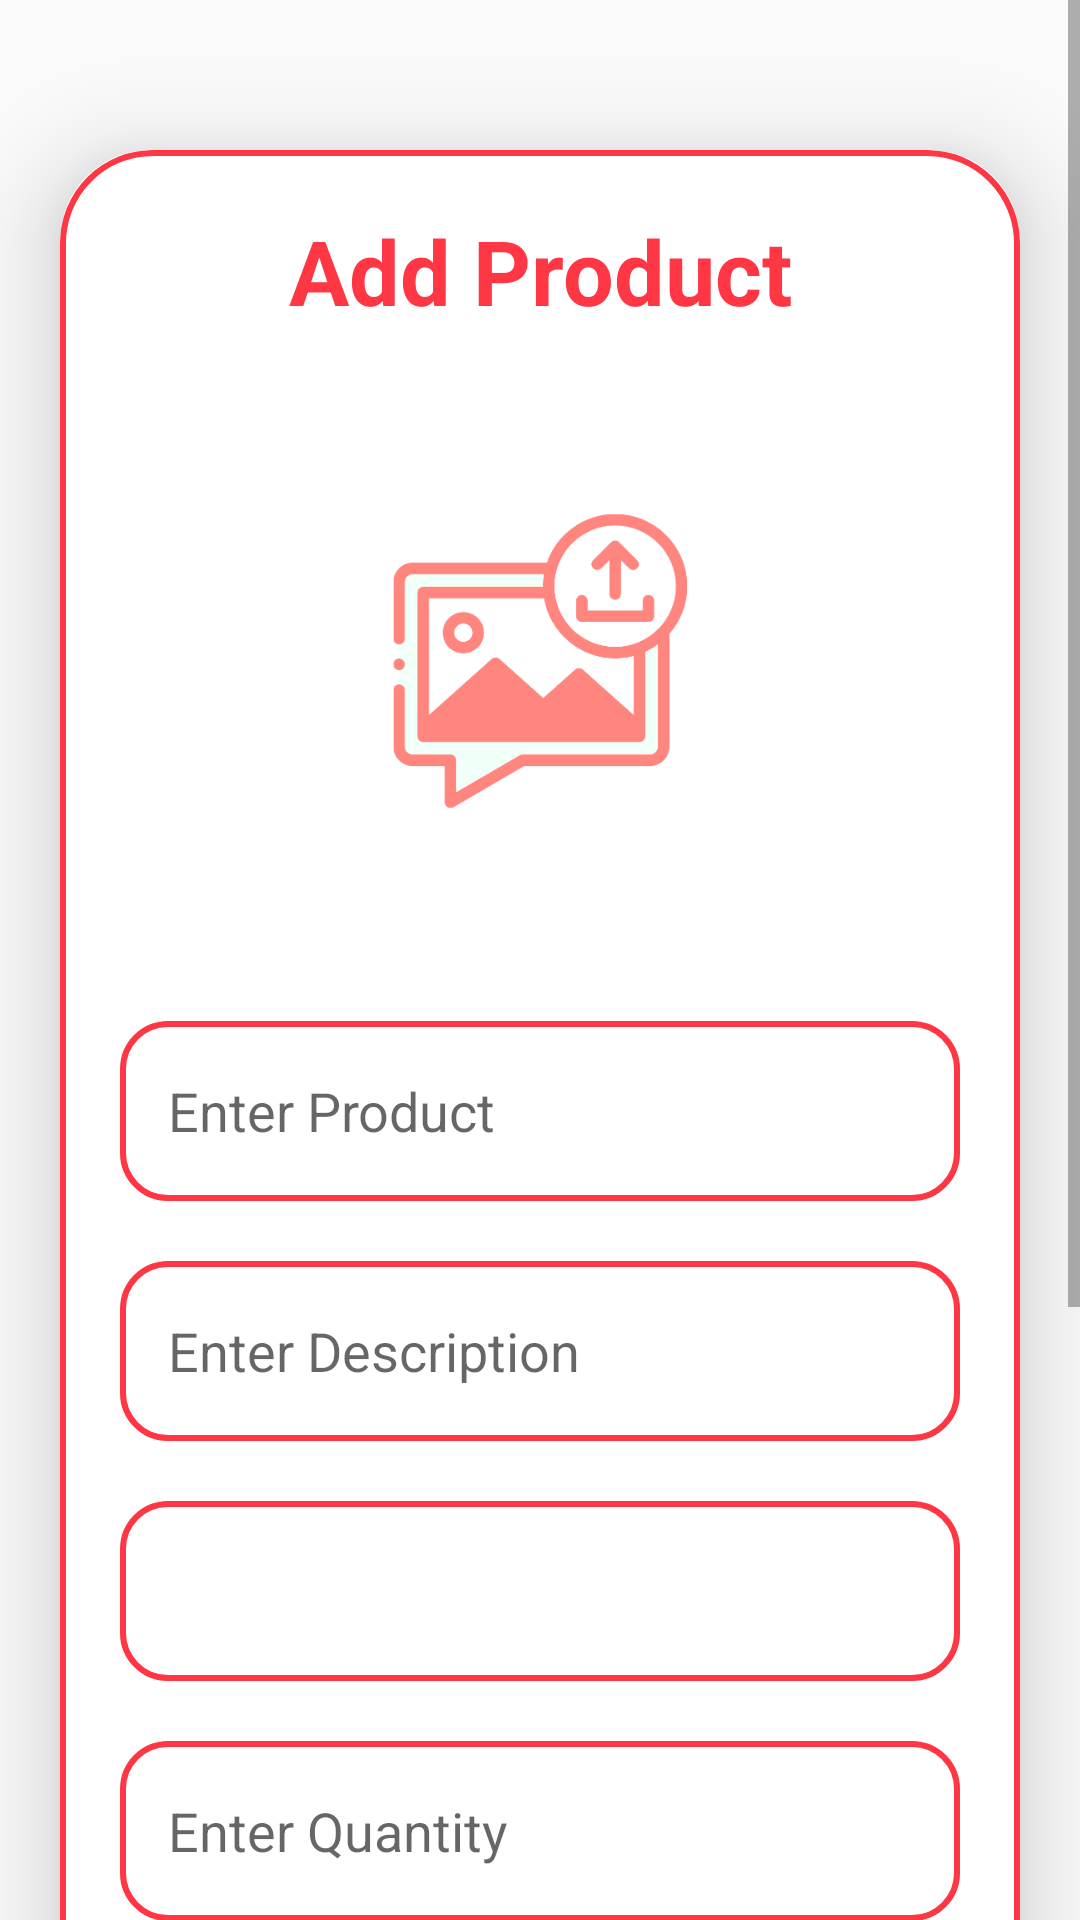

Point at icon controls on the screen. Image size 1080*1920, points as (x,y).
uploadimg: (540,661)
